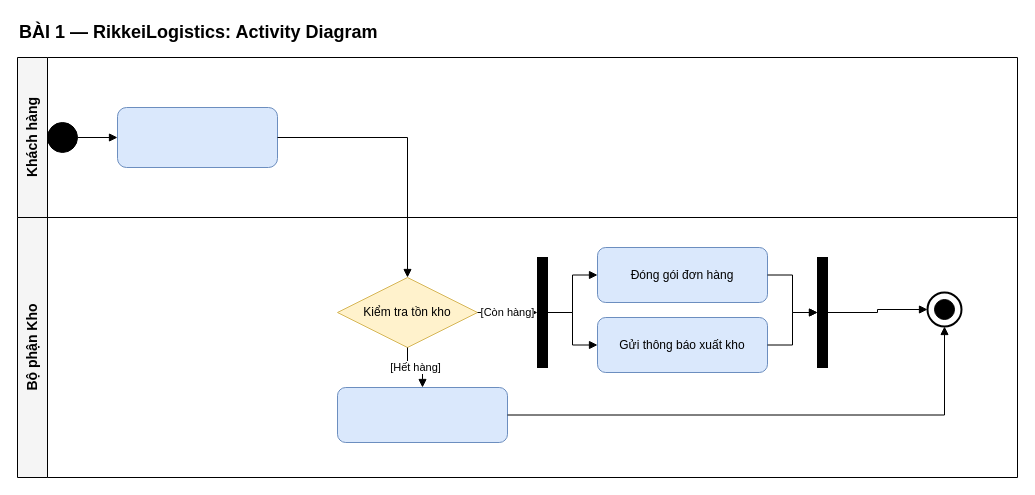
Image size: 1035x495. Some labels were removed from this diagram. The centre of each missing label's shape, as x and y in pixels:
Báo hoàn tiền: the point at 422,414
Đặt đơn hàng: the point at 197,137
